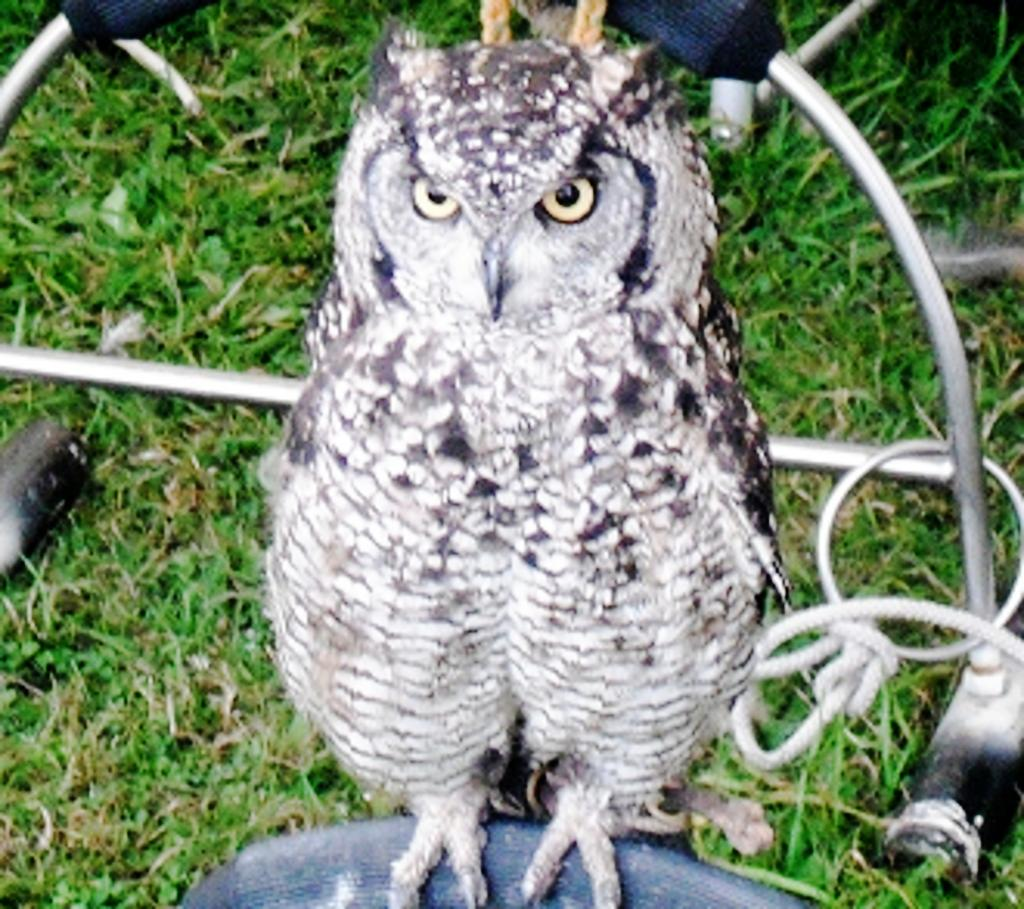Owl: (258, 3, 813, 903)
